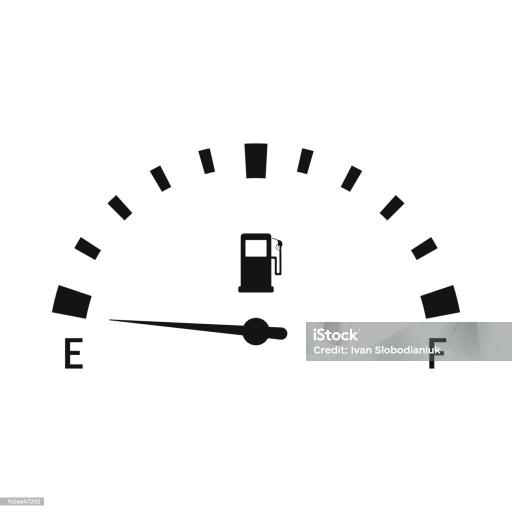empty: (57, 335, 83, 371)
fuel_icon: (236, 230, 287, 292)
full: (420, 334, 453, 370)
guage_area: (49, 135, 463, 406)
needle_center: (232, 310, 280, 357)
needle_tip: (102, 311, 131, 337)
